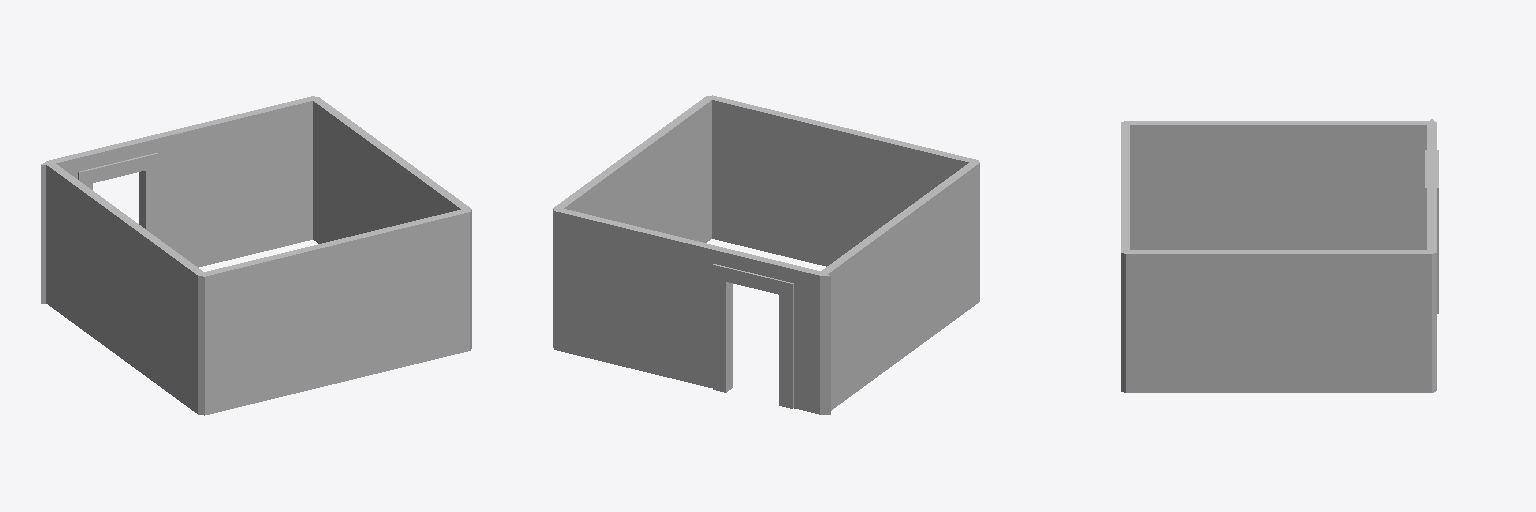
The model's file is Section1_1.obj.
The picture shows the model from 3 angles: view 1: azimuth 30°, elevation 25°; view 2: azimuth 150°, elevation 25°; view 3: azimuth 270°, elevation 25°; orthographic projection.
Parts seen in each view (by area): view 1: mergedBlocks; view 2: mergedBlocks; view 3: mergedBlocks.
Part boxes in pixels (x1,y1,x2,y2): mergedBlocks: (41, 96, 471, 415); mergedBlocks: (553, 95, 979, 414); mergedBlocks: (1121, 119, 1438, 392).
Size of the model in its own units: 4.19 by 2 by 4.16.